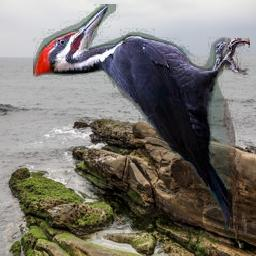Woodpecker: (34, 5, 251, 242)
